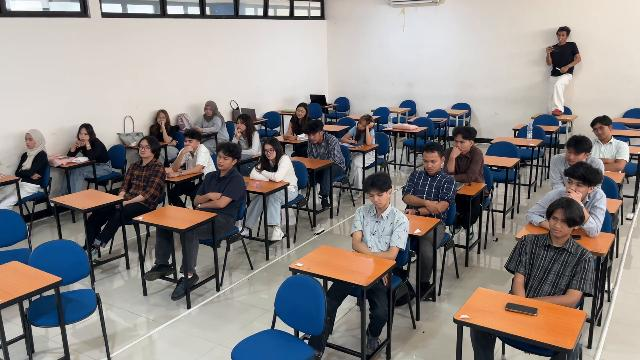bingung: (549, 214, 570, 237), (566, 177, 586, 192), (368, 192, 386, 208), (423, 155, 437, 174), (592, 125, 608, 139), (217, 153, 230, 169), (264, 146, 277, 160), (454, 137, 467, 151), (139, 142, 151, 157), (25, 135, 35, 148), (236, 118, 246, 131), (79, 129, 88, 142), (157, 113, 166, 125), (308, 134, 320, 143), (184, 138, 195, 147), (296, 107, 305, 118), (205, 107, 213, 116), (357, 122, 366, 130)
